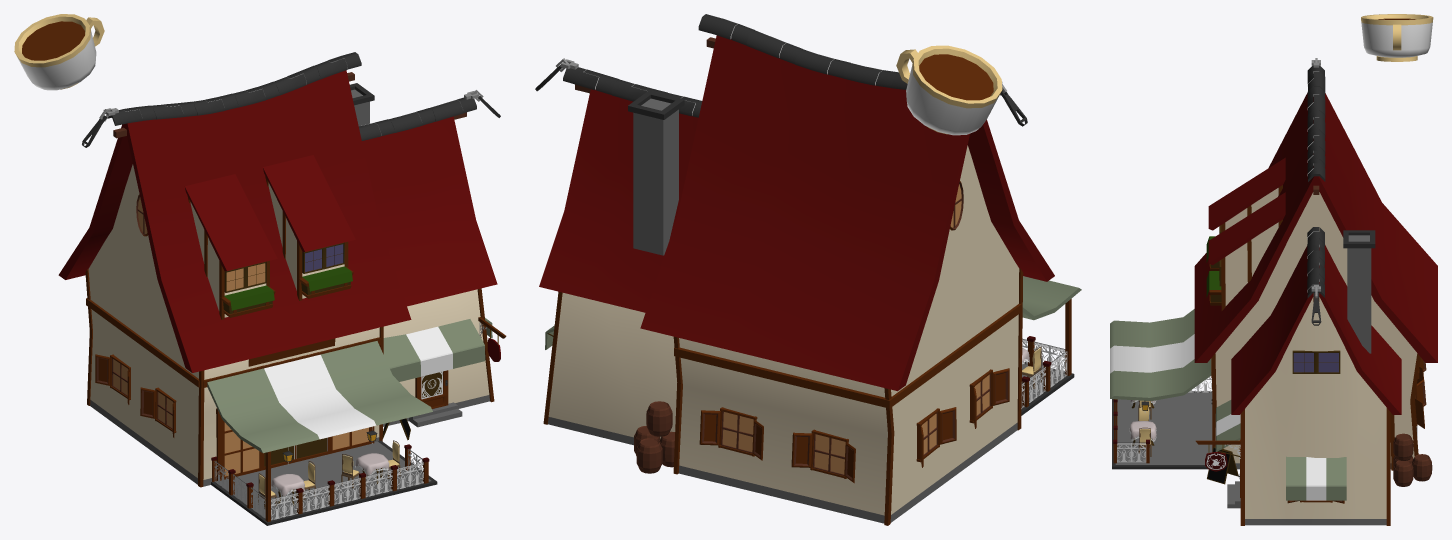
File: Cafeteria.fbx
The picture shows the model from 3 angles, left to right: view 1: azimuth 30°, elevation 25°; view 2: azimuth 150°, elevation 25°; view 3: azimuth 270°, elevation 25°; orthographic projection. The views are drawn at different scales.
Visible parts, largest first — view 1: Cube.353, Cube.352, Cube.355, Cube.357, Cube.361, Cylinder, Cube.367, Cube.364, Cube.243, Cube.369, Cube.354, Cube.063 (+18 smaller); view 2: Cube.353, Cube.352, Cube.355, Cube.354, Cylinder, Cube.155, Cube.243, JanelasPequenas.002, JanelasPequenas.004, Cube.183, Cube.116, Cube.357 (+10 smaller); view 3: Cube.354, Cube.353, Cube.355, Cube.352, Cube.357, Cube.361, Cylinder, Cube.155, Cube.143, Cube.243, Cube.364, Cube.367 (+16 smaller).
Boxes of the visible parts, x1,y1,x2,y2 form: Cube.353: (58, 70, 411, 372); Cube.352: (88, 164, 379, 486); Cube.355: (362, 116, 497, 306); Cube.357: (207, 341, 432, 453); Cube.361: (211, 440, 437, 525); Cylinder: (14, 14, 104, 90); Cube.367: (263, 155, 355, 252); Cube.364: (184, 174, 277, 271); Cube.243: (82, 52, 361, 147); Cube.369: (383, 319, 485, 381); Cube.354: (383, 289, 489, 426); Cube.063: (216, 408, 374, 480); Cube.353: (640, 35, 1054, 391); Cube.352: (678, 145, 1019, 523); Cube.355: (539, 89, 698, 312); Cube.354: (548, 293, 677, 445); Cylinder: (896, 45, 1002, 135); Cube.155: (628, 91, 684, 255); Cube.243: (698, 14, 1027, 126); JanelasPequenas.002: (699, 407, 763, 460); JanelasPequenas.004: (791, 429, 855, 483); Cube.183: (674, 347, 891, 408); Cube.116: (535, 58, 702, 117); Cube.357: (1022, 276, 1081, 320); Cube.354: (1245, 297, 1386, 525); Cube.353: (1194, 93, 1437, 362); Cube.355: (1231, 245, 1401, 414); Cube.352: (1215, 192, 1417, 469); Cube.357: (1110, 309, 1211, 400); Cube.361: (1112, 391, 1212, 469); Cylinder: (1361, 14, 1433, 61); Cube.155: (1343, 230, 1375, 353); Cube.143: (1286, 456, 1346, 500); Cube.243: (1307, 58, 1325, 181); Cube.364: (1208, 157, 1285, 230); Cube.367: (1208, 192, 1285, 264).
Size of the model in its own units: 2229 by 1952 by 1601.
